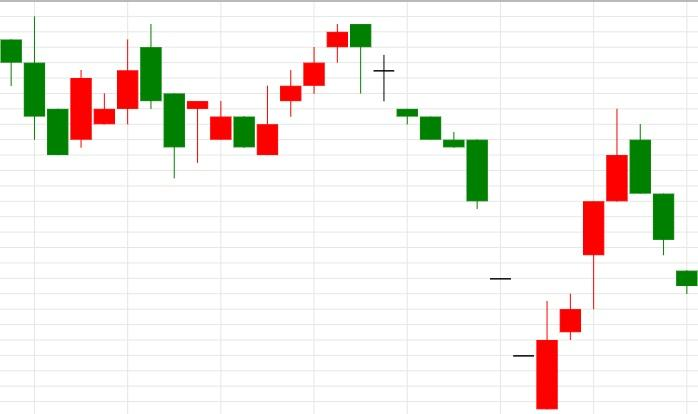hanging_man_fall: (256, 24, 371, 156)
three_black_crows_fall: (536, 108, 698, 409)
